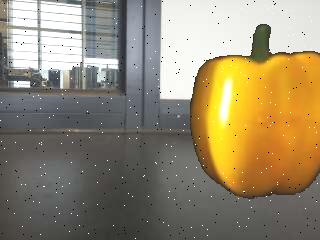Capsicum: (188, 19, 319, 196)
